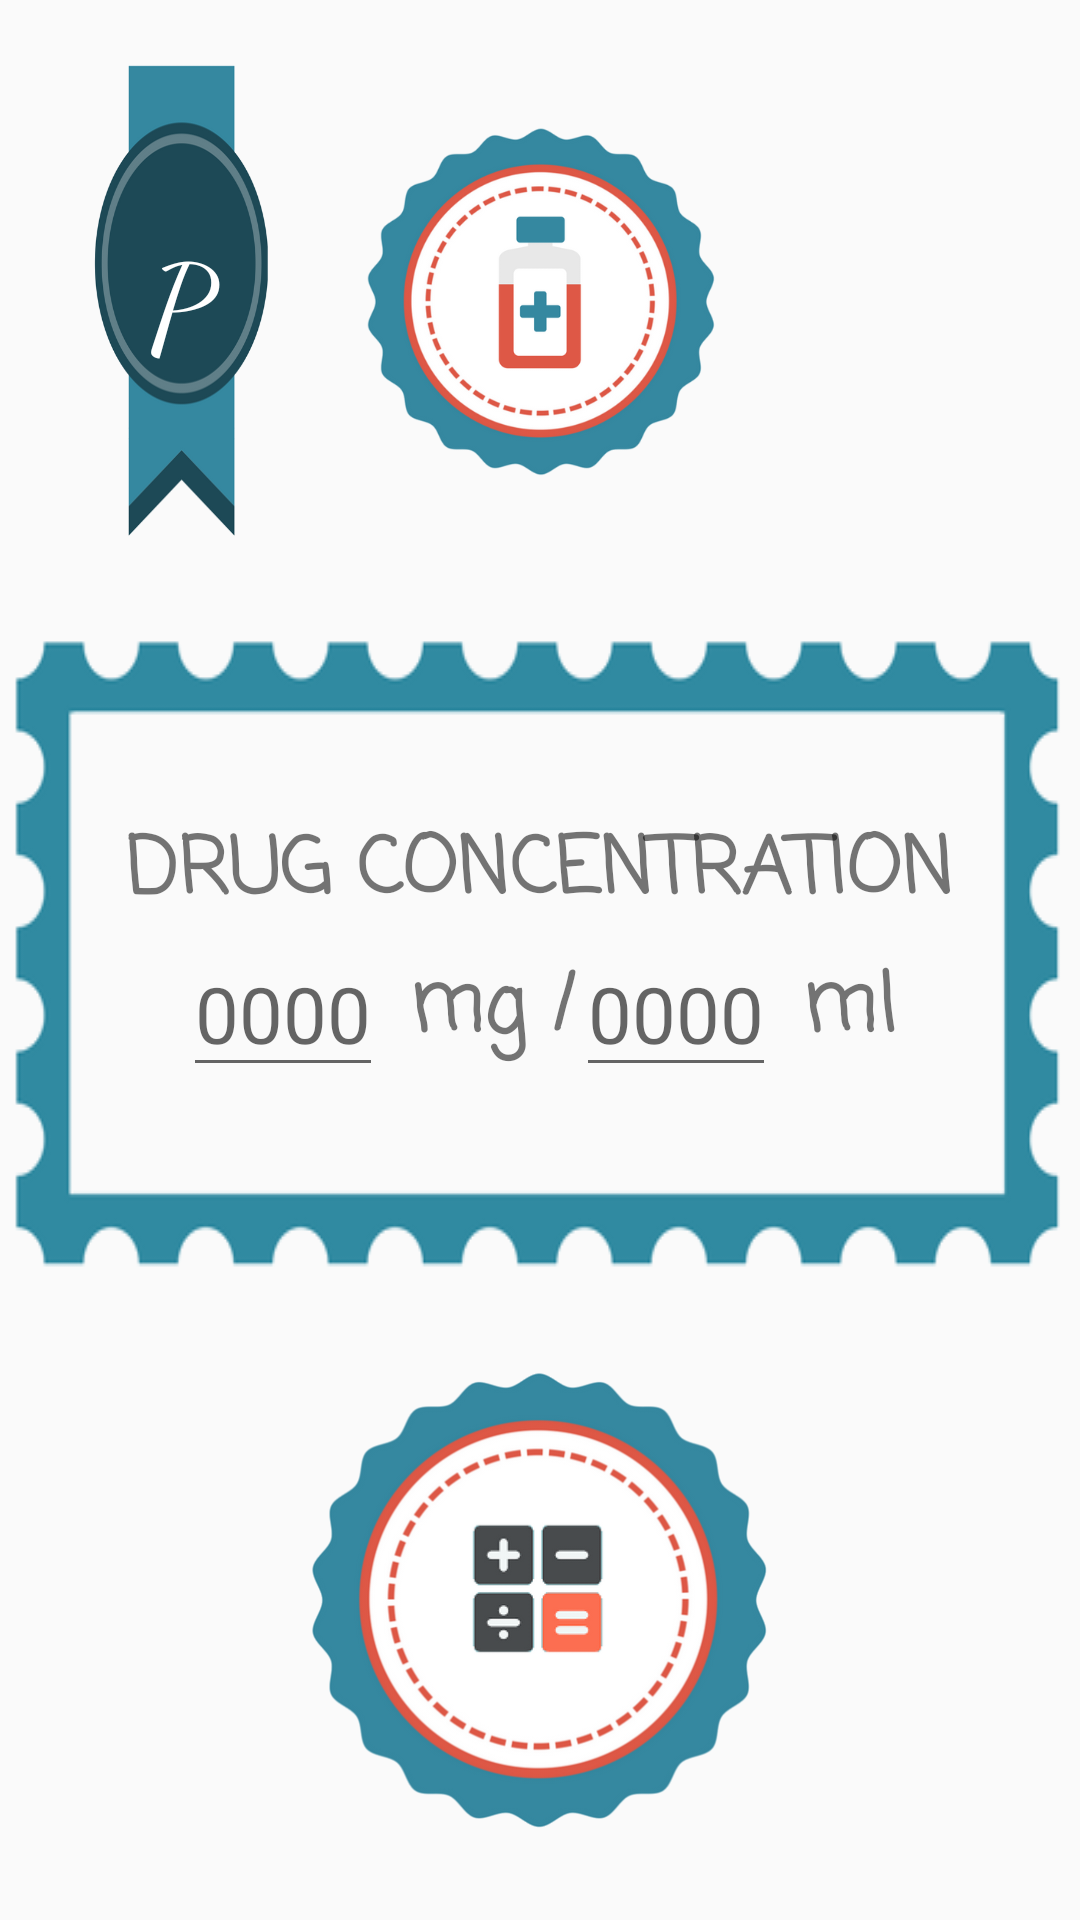

Named icons in this screenshot (1080w x 1920h) and their centers, point (x, y):
para syr: point (541, 301)
